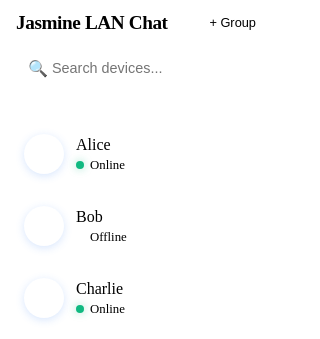
Test case: DeviceList › filters peers by search
Type "ali" into the field with placeholder "Search devices...".
click(140, 68); type("ali")  # box [16,50,264,86]
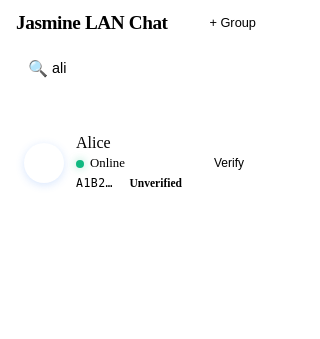
Check: the text "Alice" is shown, box [76,134,111,151]
Check: the link "Bob" is gone
Check: the link "Charlie" is gone
